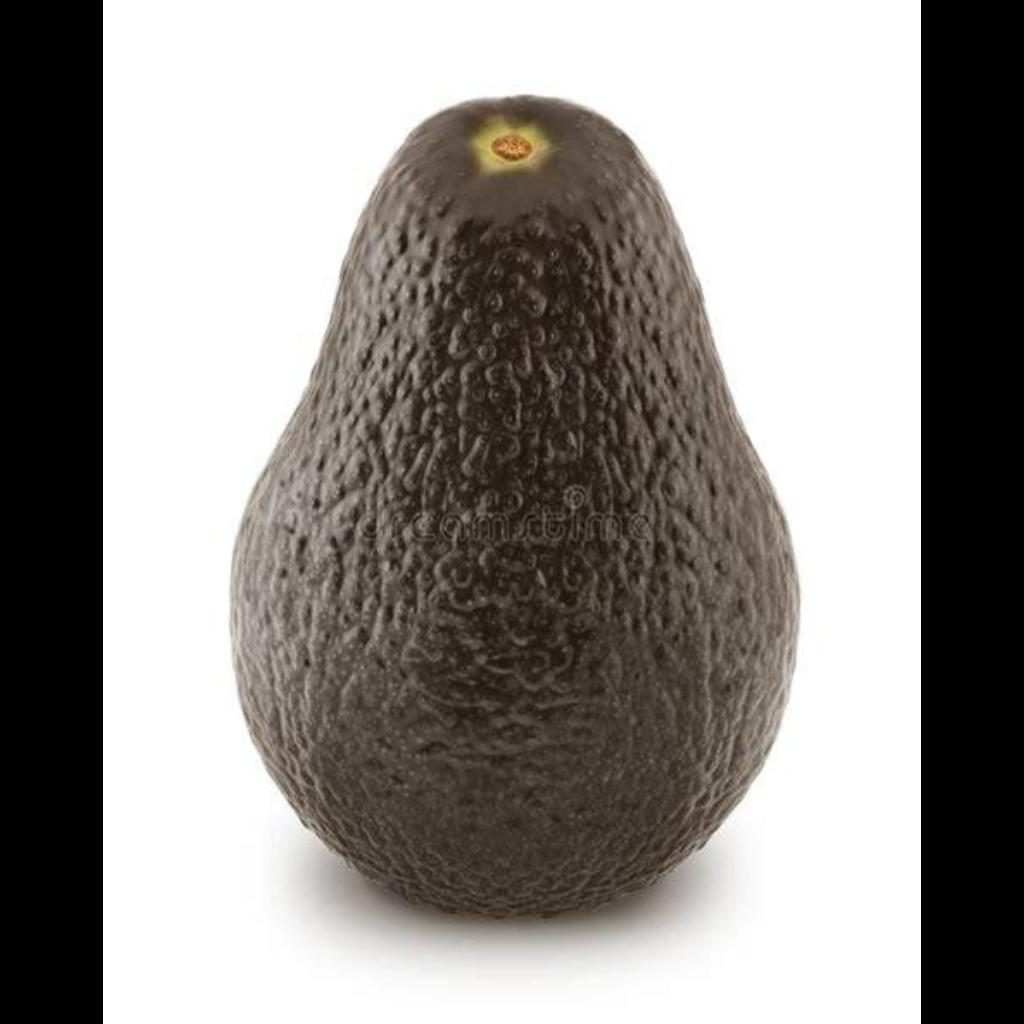Anthracnose: (220, 89, 804, 897)
